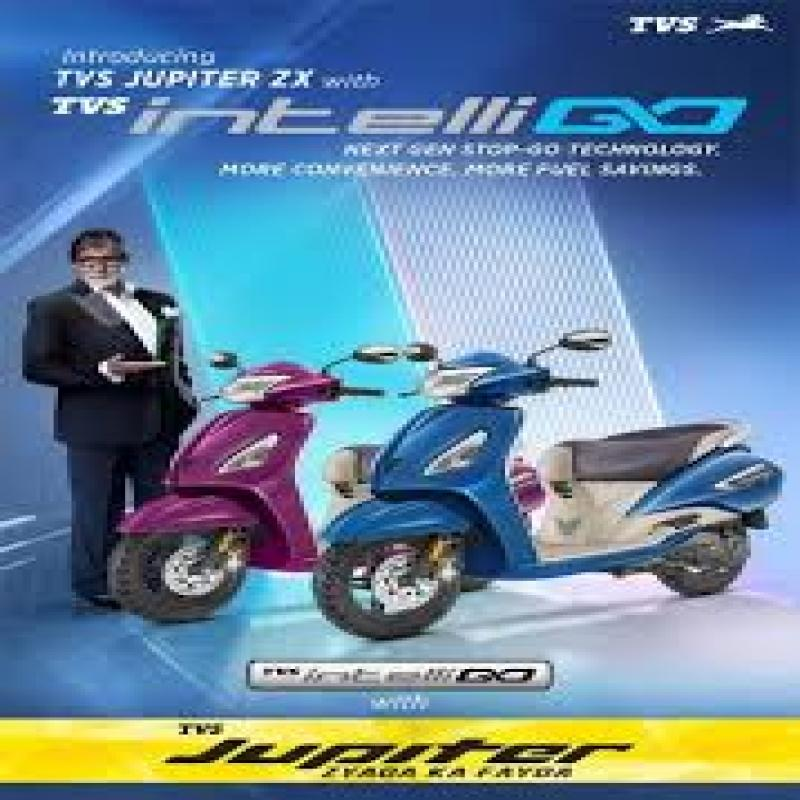bike: (338, 302, 775, 672), (120, 353, 392, 611)
